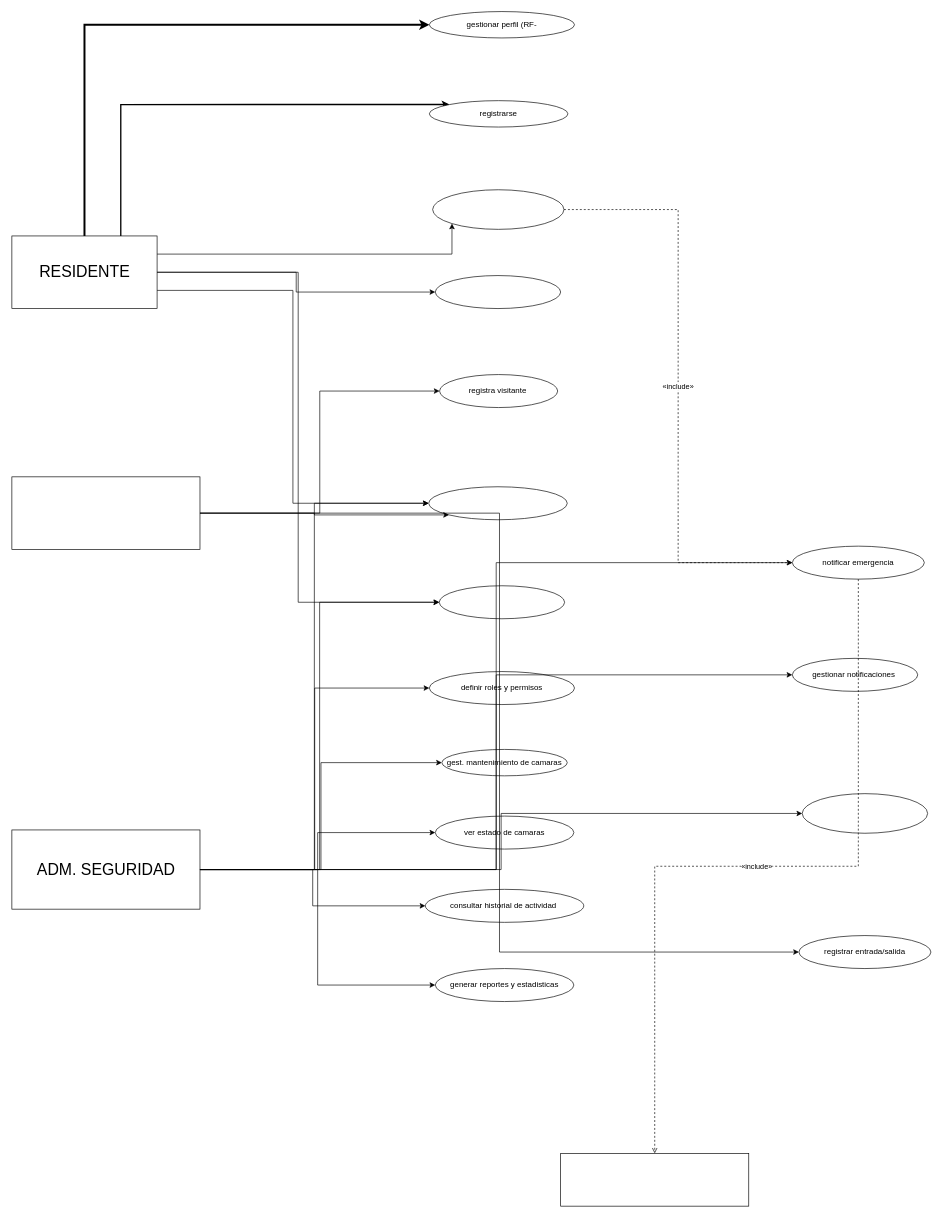
Image size: 942x1218. Some labels were removed from this diagram. The shapes that lost their labels are listed below. From the top down, each one's centre as x and y in pixels, then its label:
the point at 498,209: activar botón de panico
the point at 498,292: ver cámaras
the point at 105,512: VIGILANTE DE PORTERIA
the point at 497,503: inicio de sesión
the point at 502,602: enviar/recibir mensajes
the point at 865,813: clas. incidente por riesgo
the point at 654,1179: SERVICIO DE NOTIFICACIONES
